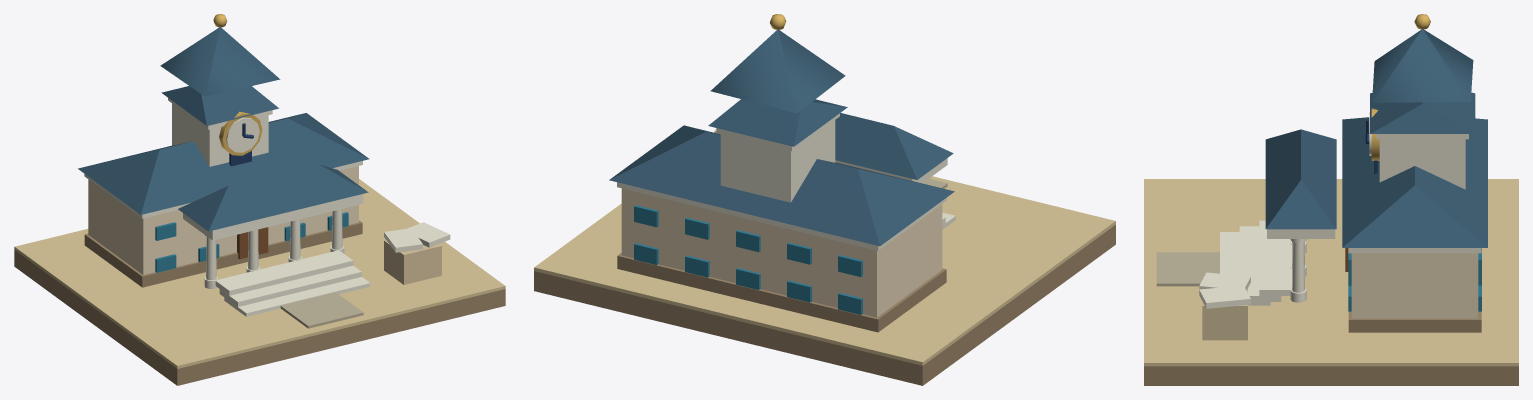
The model's file is university-lv1.glb.
The picture shows the model from 3 angles, left to right: view 1: azimuth 30°, elevation 25°; view 2: azimuth 150°, elevation 25°; view 3: azimuth 270°, elevation 25°; orthographic projection. The views are drawn at different scales.
Parts seen in each view (by area): view 1: foundation_sand, lecture_hall_roof_roof, foundation_stoneDark, lecture_hall_cream, portico_pediment_roof, entrance_steps_white, tower_cap_roof, lecture_hall_stoneDark, clock_tower_roof_roof, clock_tower_white, body_white, book_plinth_stone (+8 smaller); view 2: foundation_sand, lecture_hall_cream, lecture_hall_roof_roof, foundation_stoneDark, tower_cap_roof, clock_tower_white, lecture_hall_stoneDark, portico_pediment_roof, lecture_hall_windows_glass, clock_tower_roof_roof, lecture_hall_white; view 3: foundation_sand, lecture_hall_roof_roof, lecture_hall_cream, foundation_stoneDark, portico_pediment_roof, tower_cap_roof, entrance_steps_white, clock_tower_white, clock_tower_roof_roof, lecture_hall_stoneDark, campus_path_paving, open_book_white (+5 smaller).
Boxes of the visible parts, x1=… form: foundation_sand: x1=14, y1=179, x2=505, y2=368; lecture_hall_roof_roof: x1=78, y1=113, x2=369, y2=214; foundation_stoneDark: x1=14, y1=250, x2=505, y2=385; lecture_hall_cream: x1=88, y1=166, x2=358, y2=274; portico_pediment_roof: x1=178, y1=164, x2=368, y2=231; entrance_steps_white: x1=215, y1=250, x2=370, y2=316; tower_cap_roof: x1=160, y1=27, x2=280, y2=96; lecture_hall_stoneDark: x1=84, y1=220, x2=362, y2=287; clock_tower_roof_roof: x1=161, y1=86, x2=278, y2=125; clock_tower_white: x1=168, y1=98, x2=272, y2=166; body_white: x1=204, y1=209, x2=344, y2=288; book_plinth_stone: x1=384, y1=240, x2=441, y2=284; foundation_sand: x1=534, y1=176, x2=1115, y2=365; lecture_hall_cream: x1=621, y1=188, x2=942, y2=317; lecture_hall_roof_roof: x1=609, y1=125, x2=954, y2=246; foundation_stoneDark: x1=534, y1=225, x2=1115, y2=385; tower_cap_roof: x1=710, y1=30, x2=845, y2=113; clock_tower_white: x1=716, y1=113, x2=839, y2=202; lecture_hall_stoneDark: x1=617, y1=253, x2=946, y2=332; portico_pediment_roof: x1=835, y1=113, x2=953, y2=179; lecture_hall_windows_glass: x1=634, y1=205, x2=862, y2=314; clock_tower_roof_roof: x1=708, y1=99, x2=847, y2=146; lecture_hall_white: x1=617, y1=182, x2=946, y2=250; foundation_sand: x1=1144, y1=179, x2=1518, y2=366; lecture_hall_roof_roof: x1=1342, y1=117, x2=1487, y2=247; lecture_hall_cream: x1=1351, y1=253, x2=1478, y2=318; foundation_stoneDark: x1=1144, y1=366, x2=1518, y2=385; portico_pediment_roof: x1=1265, y1=129, x2=1336, y2=229; tower_cap_roof: x1=1372, y1=29, x2=1473, y2=102; entrance_steps_white: x1=1220, y1=220, x2=1292, y2=305; clock_tower_white: x1=1376, y1=134, x2=1468, y2=189; clock_tower_roof_roof: x1=1370, y1=92, x2=1475, y2=133; lecture_hall_stoneDark: x1=1348, y1=311, x2=1481, y2=332; campus_path_paving: x1=1156, y1=252, x2=1219, y2=286; open_book_white: x1=1199, y1=272, x2=1250, y2=308.
Size of the model in its own units: 1 by 0.7081 by 0.8605.
